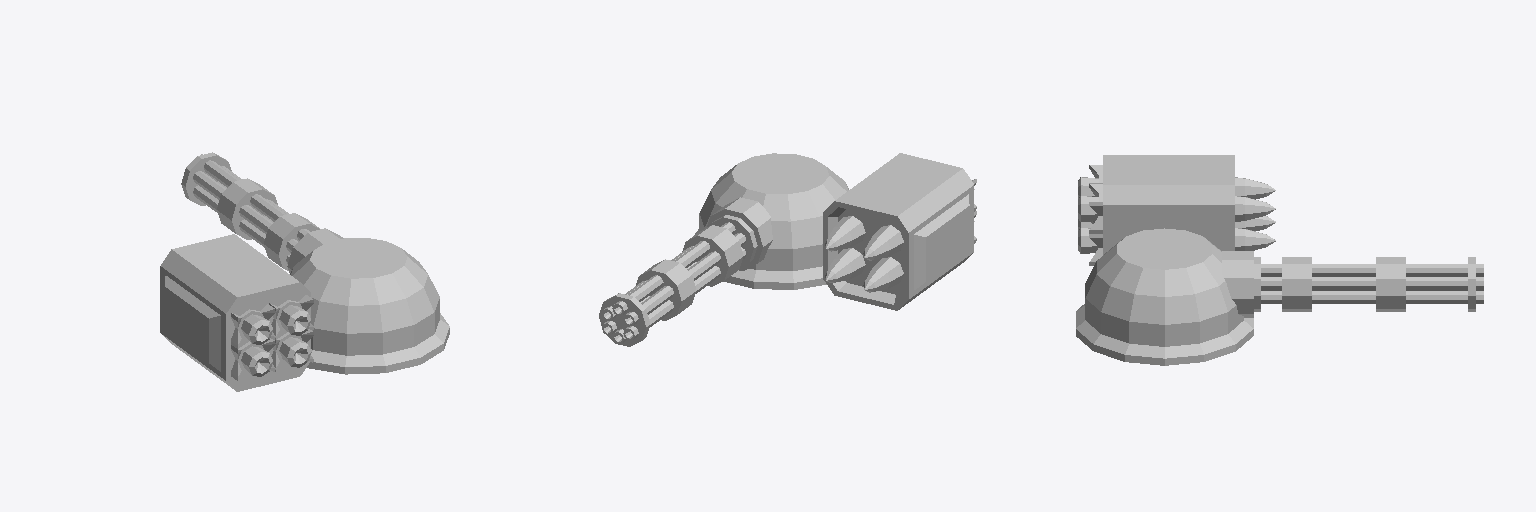
File: TankTurret.obj
The picture shows the model from 3 angles: view 1: azimuth 30°, elevation 25°; view 2: azimuth 150°, elevation 25°; view 3: azimuth 270°, elevation 25°; orthographic projection.
Parts seen in each view (by area): view 1: polySurface376; view 2: polySurface376; view 3: polySurface376.
Boxes of the visible parts, x1,y1,x2,y2 form: polySurface376: [160, 152, 449, 391]; polySurface376: [599, 153, 976, 346]; polySurface376: [1076, 155, 1483, 365].
Bounding box in the file's own units: 3.87 × 1.47 × 5.52.